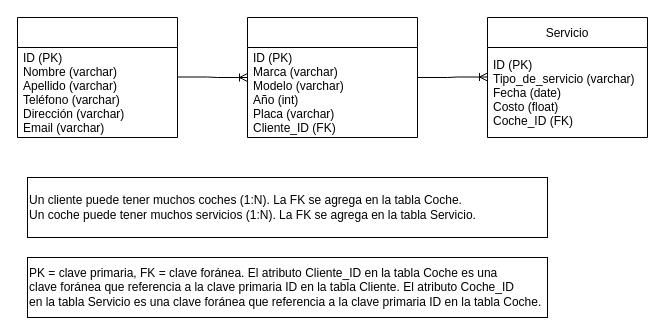
The diagram is 665 pixels wide and 335 high, and some of its shapes have lost their labels. The shapes that lost their labels are listed below. From the top down, each one's box as (x1, y1, x2, y2) in pixels, then its label:
(16, 16, 178, 138): Cliente
(246, 16, 418, 138): Coche
